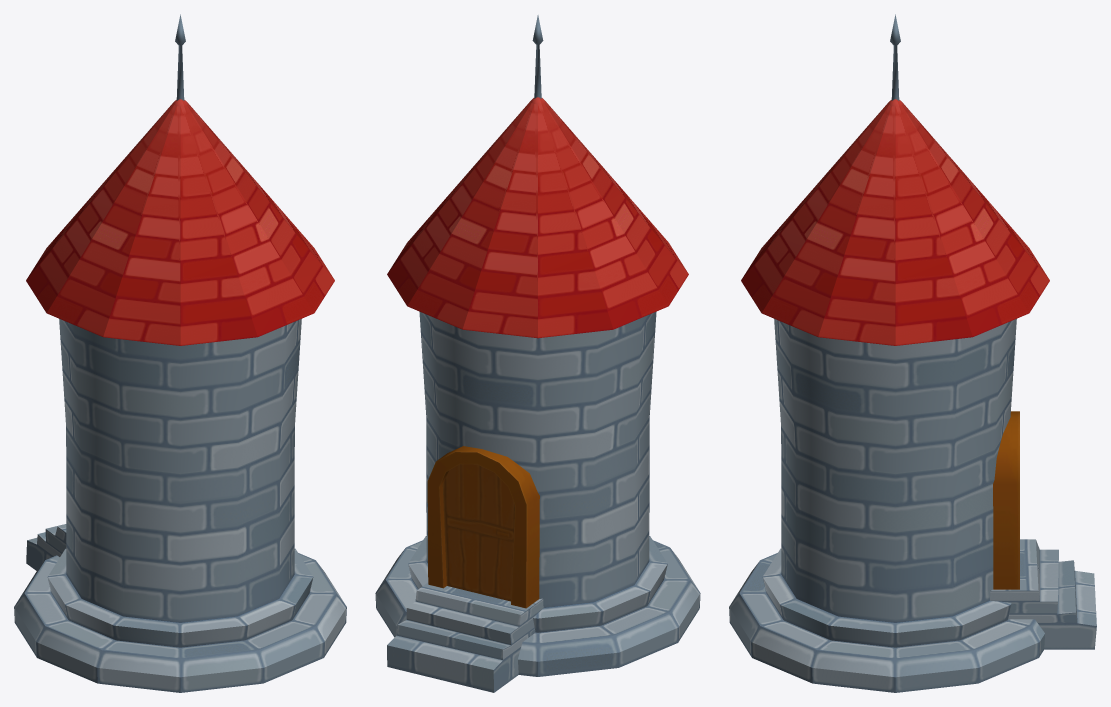
The model's file is HOS0110023.fbx.
3 renders of one model, left to right at view 1: azimuth 30°, elevation 25°; view 2: azimuth 150°, elevation 25°; view 3: azimuth 270°, elevation 25°, orthographic. The views are drawn at different scales.
Visible parts, largest first — view 1: smHOS0110023; view 2: smHOS0110023; view 3: smHOS0110023.
Boxes of the visible parts, left/top/right/bottom form: smHOS0110023: left=14, top=14, right=346, bottom=692; smHOS0110023: left=375, top=15, right=700, bottom=692; smHOS0110023: left=729, top=14, right=1096, bottom=692.
Size of the model in its own units: 462 by 933 by 511.
Materials: 1 (1 with a texture image).
